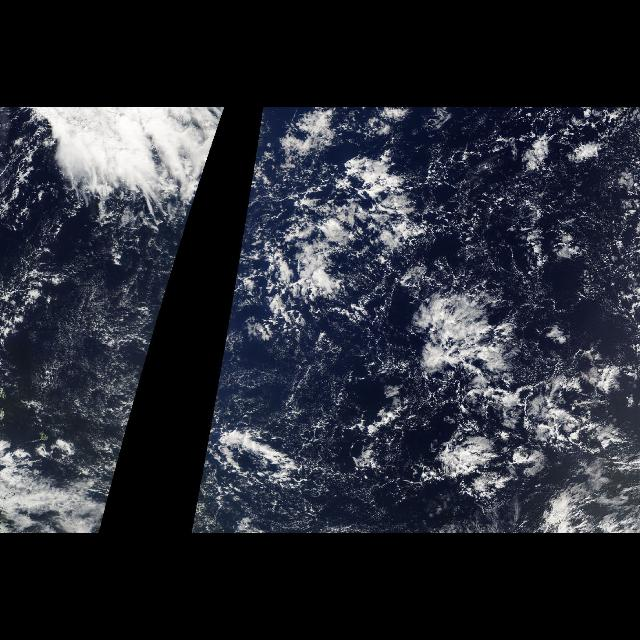Fish: (282, 119, 628, 495)
Gravel: (246, 107, 640, 533)
Sugar: (29, 232, 185, 534), (190, 287, 234, 533)
